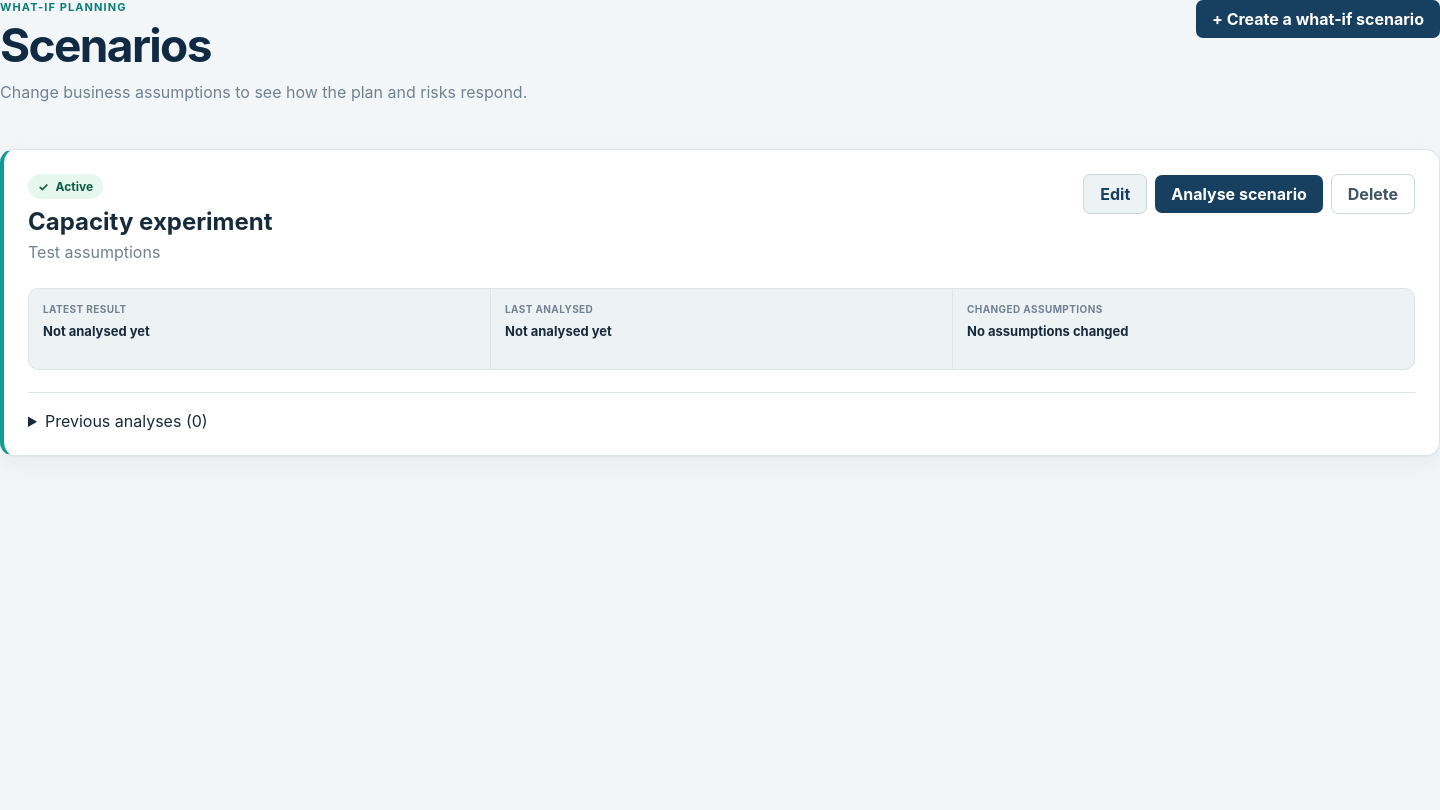
Test case: ScenariosPage › requires explicit confirmation before deletion
The image size is (1440, 810).
Click the button "Delete": (1373, 194) [1331,174,1415,214]
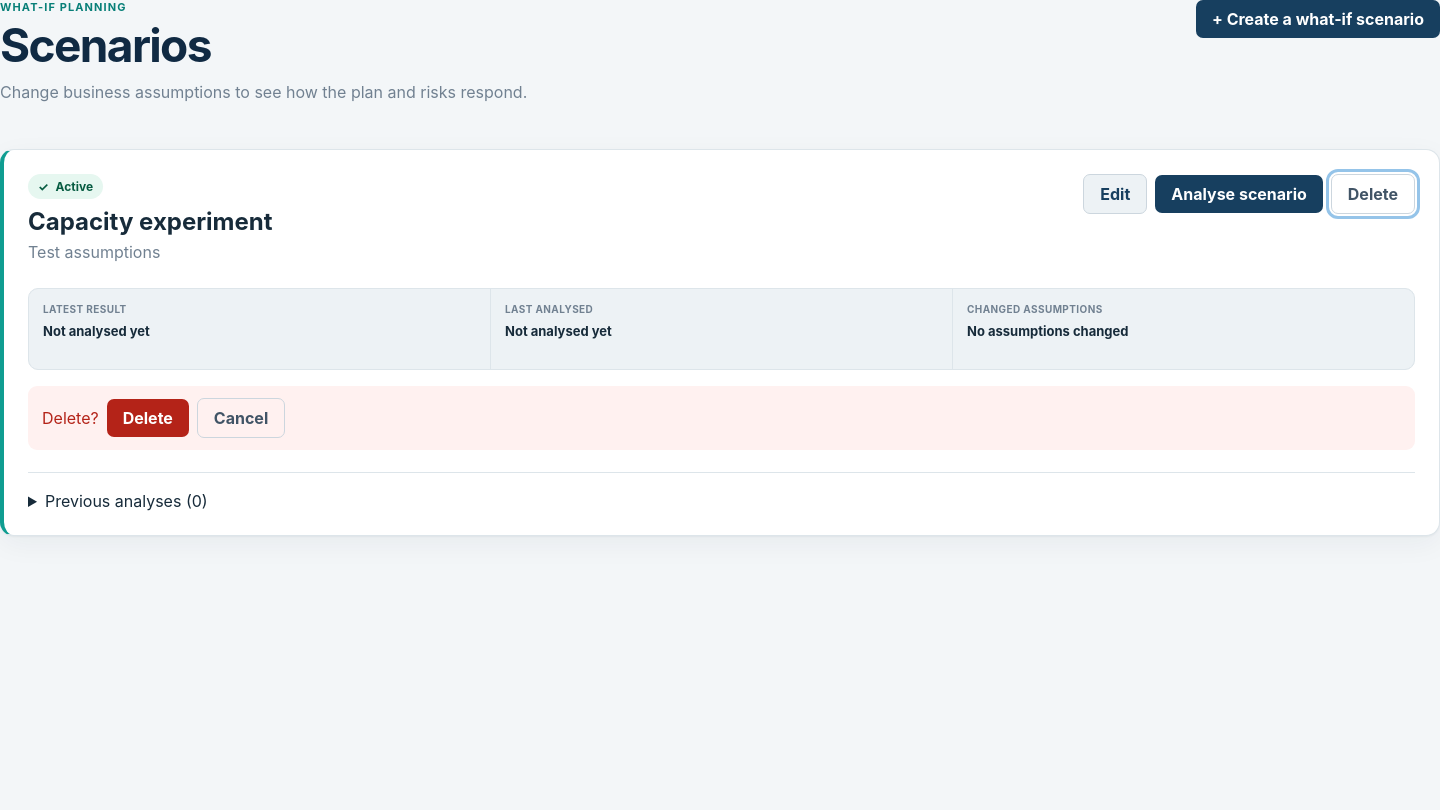
Click the 2nd button "Delete": (148, 418) [107,399,189,437]
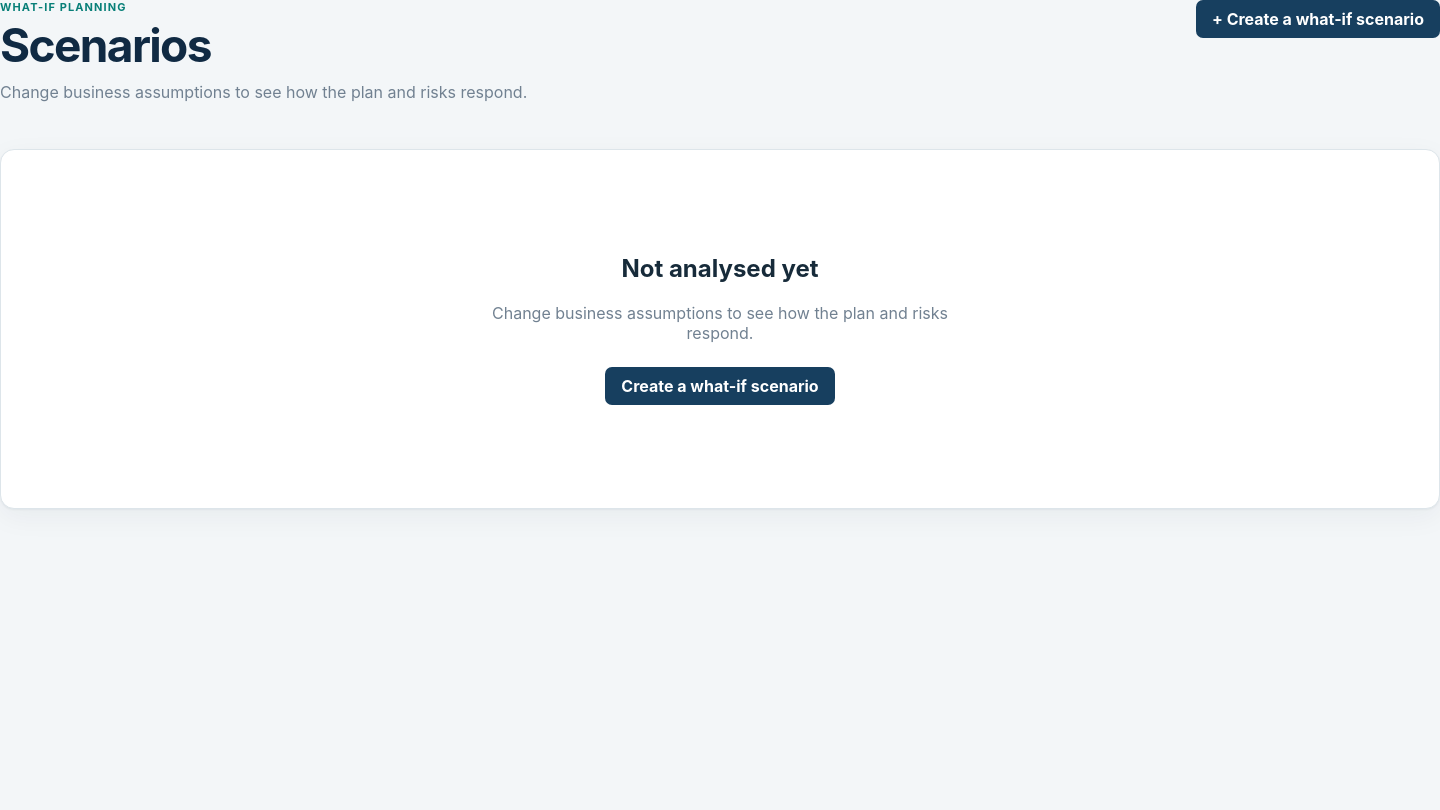
Expected: the heading "Capacity experiment" is gone
